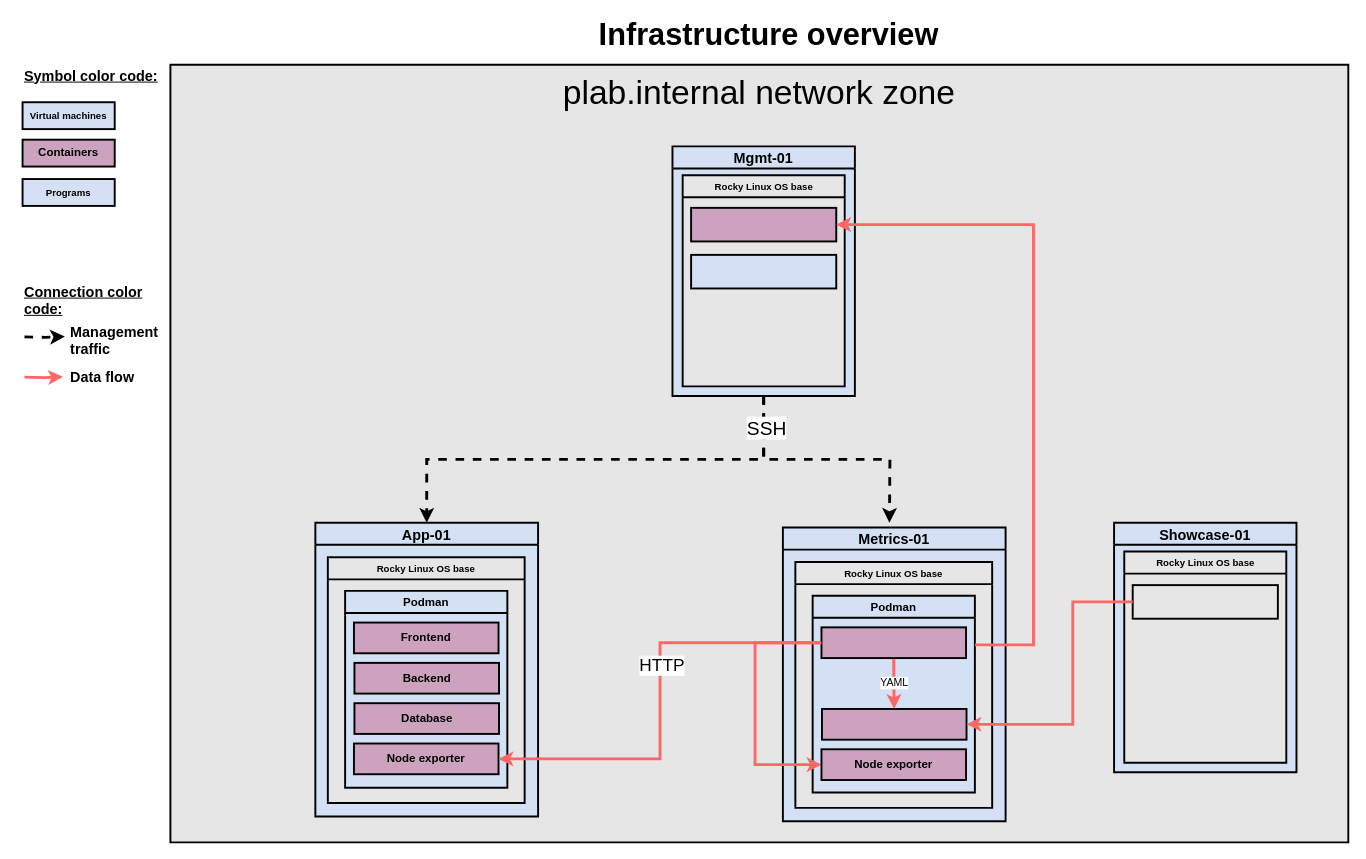
The diagram is 1366 pixels wide and 859 high, and some of its shapes have lost their labels. The centre of each missing label's shape, as x and y in pixels:
"Ansible" belongs at [763,271].
"Browser" belongs at [1204,601].
"Grafana" belongs at [894,724].
"Node-exporter" belongs at [763,224].
"Prometheus" belongs at [893,642].
